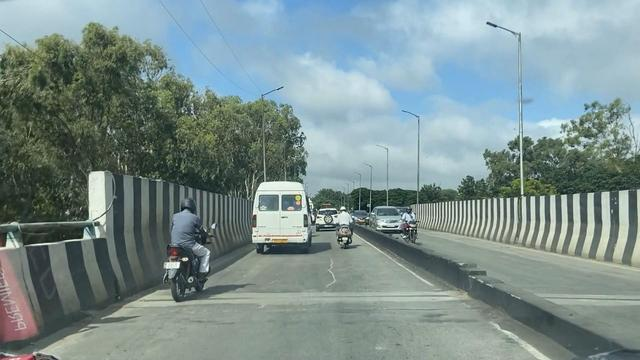HMV: (248, 182, 310, 256)
LMV: (167, 199, 210, 301), (336, 207, 351, 250)
RoadDamages: (323, 253, 336, 289)
SpeedBump: (226, 291, 469, 305)
